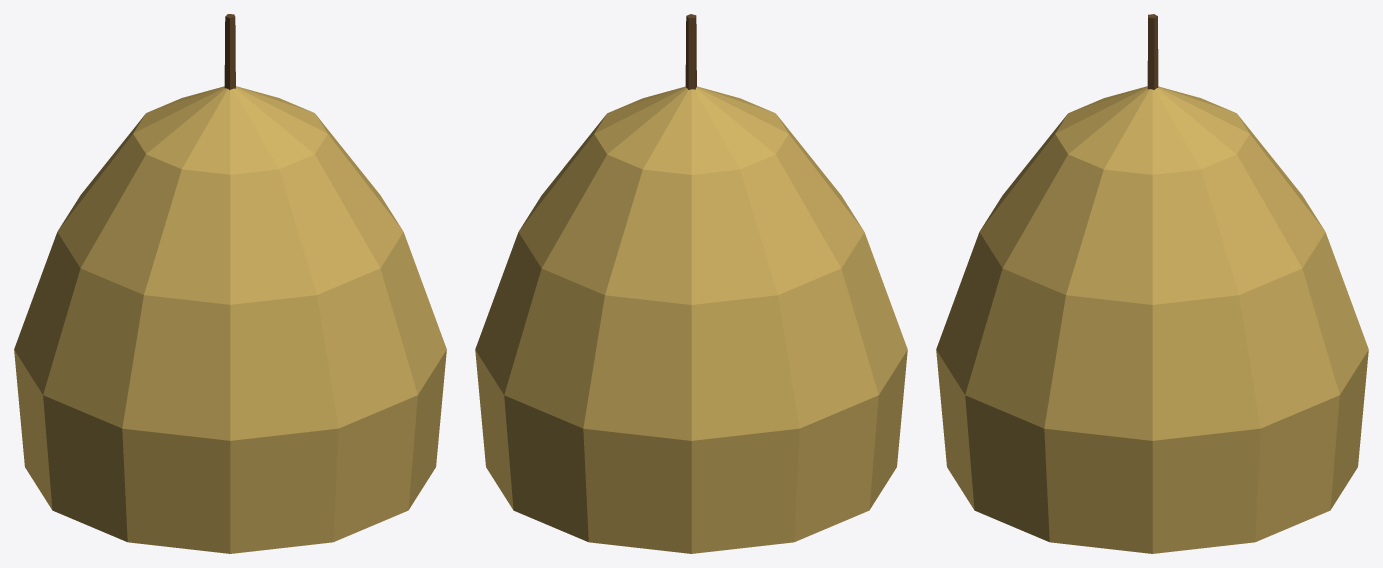
The model's file is Yard_Haystack.obj.
3 renders of one model, left to right at view 1: azimuth 30°, elevation 25°; view 2: azimuth 150°, elevation 25°; view 3: azimuth 270°, elevation 25°, orthographic.
Parts seen in each view (by area): view 1: Yard_Haystack; view 2: Yard_Haystack; view 3: Yard_Haystack.
Boxes of the visible parts, x1=… form: Yard_Haystack: x1=14, y1=14, x2=446, y2=553; Yard_Haystack: x1=475, y1=14, x2=907, y2=553; Yard_Haystack: x1=936, y1=14, x2=1368, y2=553.
Size of the model in its own units: 2 by 2.3 by 2.
